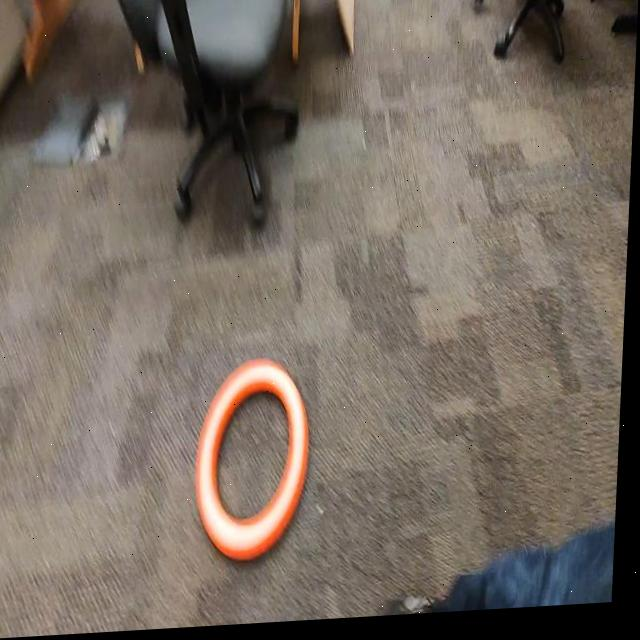note: (197, 359, 316, 570)
